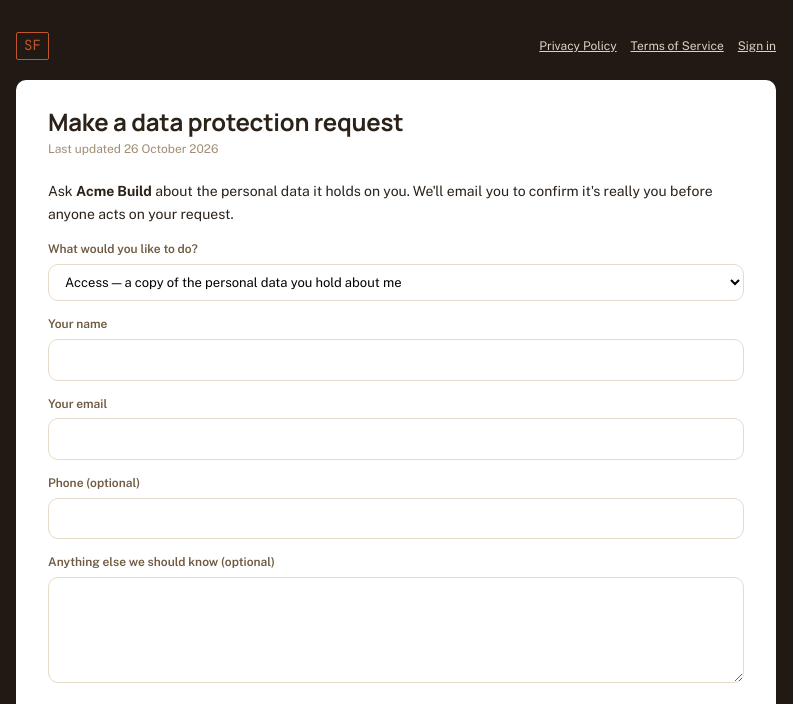
Test: PrivacyRequestPage › shows the server's error and keeps the form
In the field labelled "Your name": x=396, y=360 [48,339,744,380], type "J"
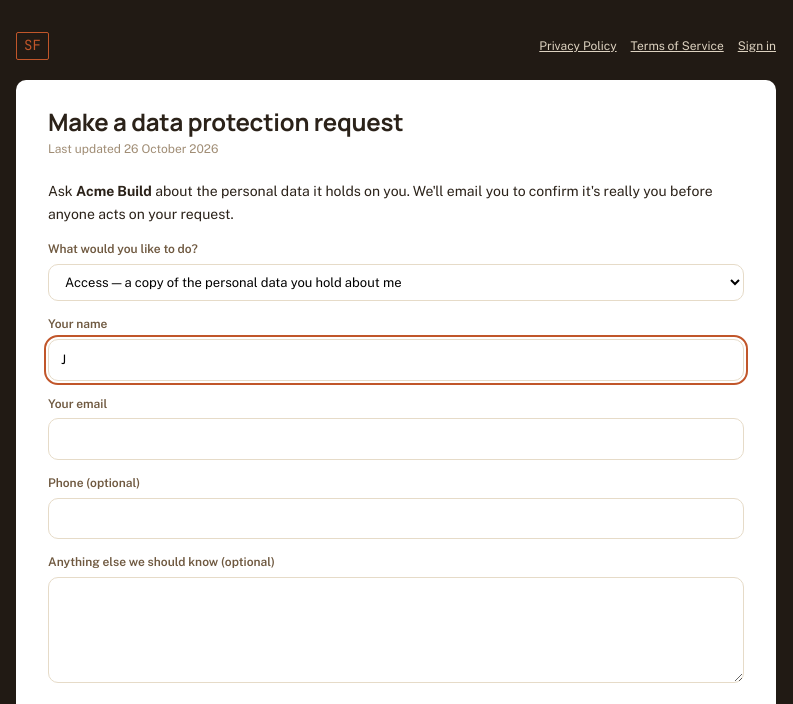
In the field labelled "Your email": x=396, y=439 [48,418,744,460], type "j@example.com"
(page scrolled)
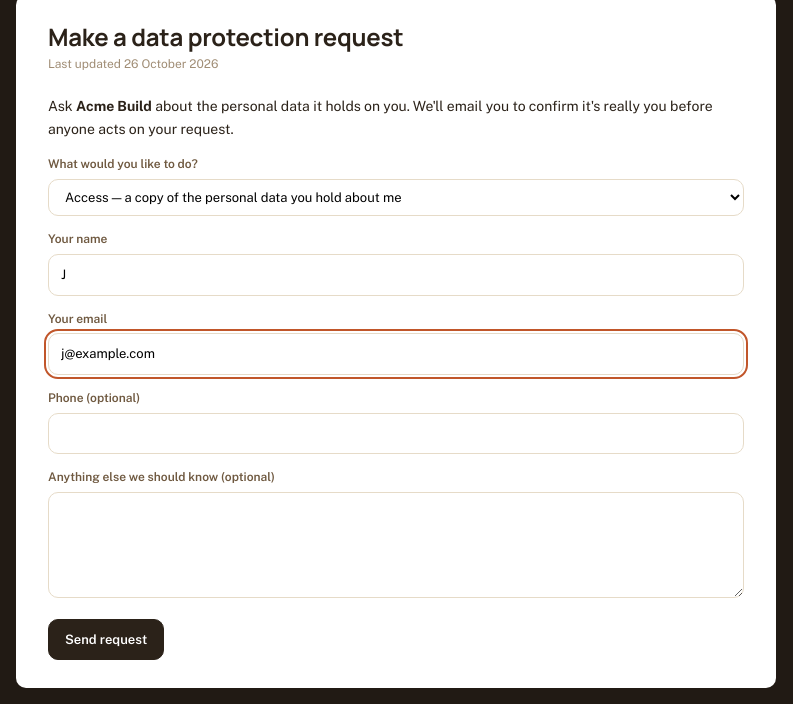
Click the button "Send request": x=106, y=639 [48,619,164,660]
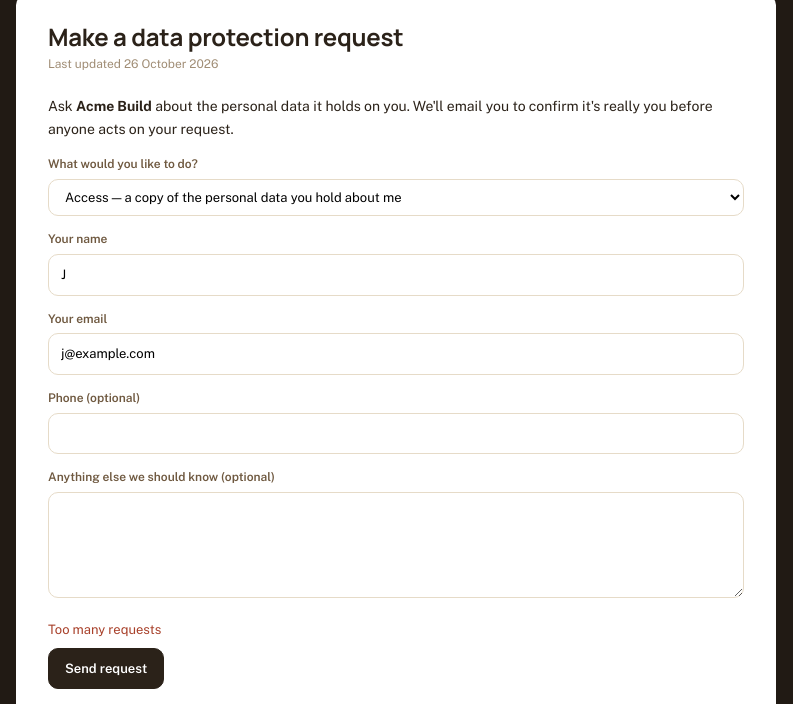
Expected: the button "Send request" is shown, [48,648,164,689]
Expected: the message reads "Too many requests", [48,622,161,637]
